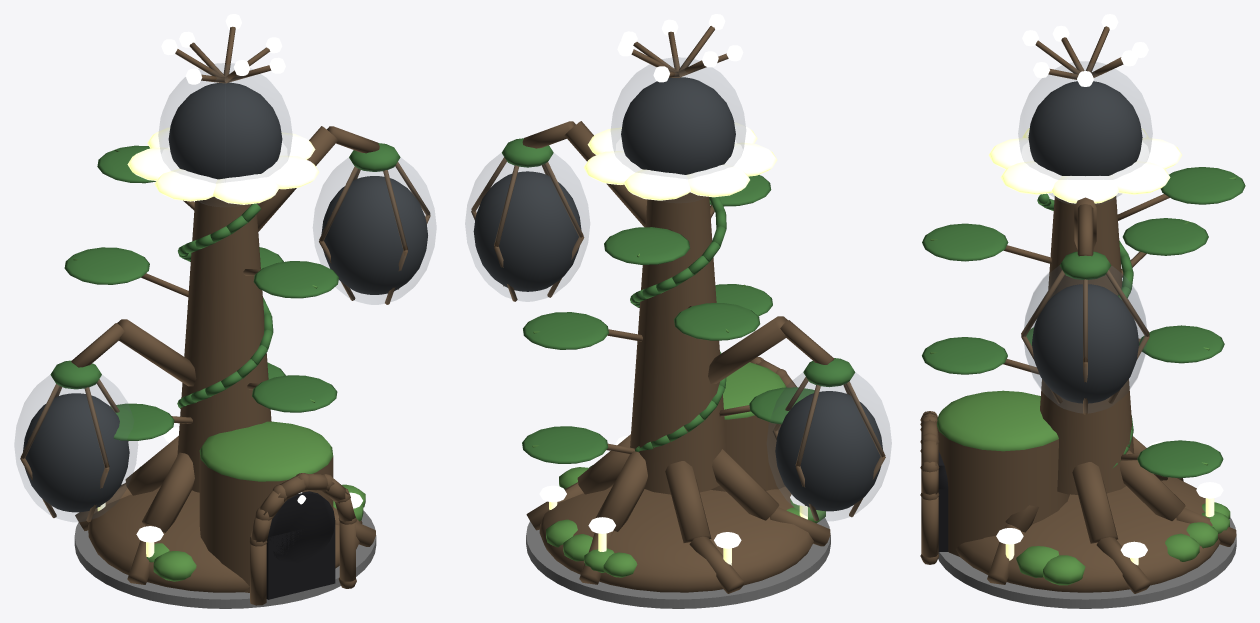
File: BLOOM_Vat_T2.glb
The picture shows the model from 3 angles, left to right: view 1: azimuth 30°, elevation 25°; view 2: azimuth 150°, elevation 25°; view 3: azimuth 270°, elevation 25°; orthographic projection.
Visible parts, largest first — view 1: BLOOM_Vat_T2; view 2: BLOOM_Vat_T2; view 3: BLOOM_Vat_T2.
Part boxes in pixels (bbox=[...]): BLOOM_Vat_T2: bbox=[14, 14, 436, 608]; BLOOM_Vat_T2: bbox=[465, 14, 891, 608]; BLOOM_Vat_T2: bbox=[920, 14, 1245, 608].
Size of the model in its own units: 5.49 by 6.78 by 3.76.
